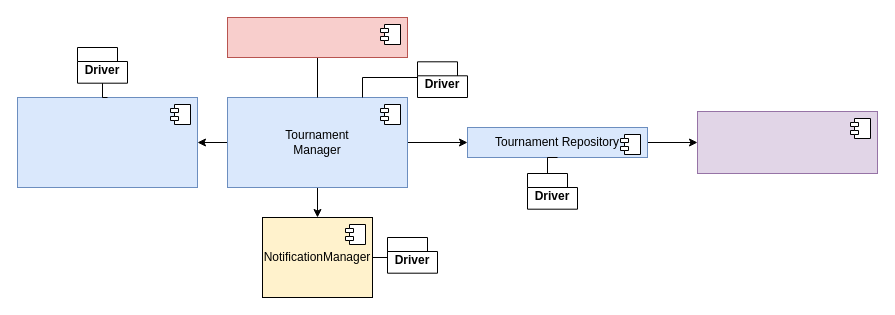
The diagram is 895 pixels wide and 315 high, and some of its shapes have lost their labels. The centre of each missing label's shape, as x and y in pixels:
"Authentication Manager" belongs at (x=107, y=142).
"Client Web Application" belongs at (x=317, y=37).
"DBMS" belongs at (x=787, y=142).
